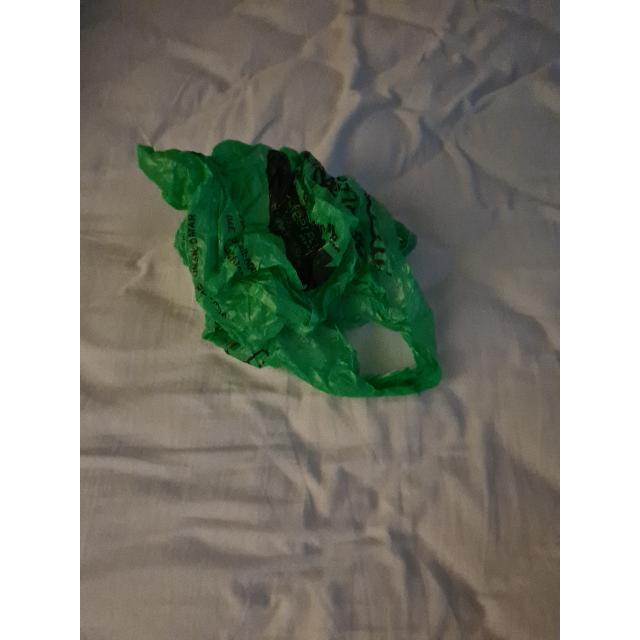Bolsa-de-nilon: (138, 140, 441, 396)
